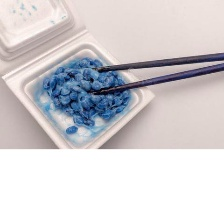foam_box: (0, 0, 159, 148)
